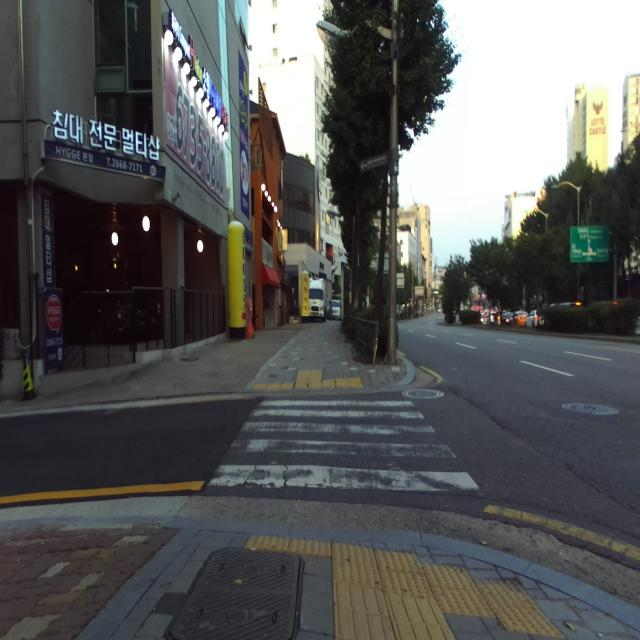횡단보도: (207, 400, 480, 492)
